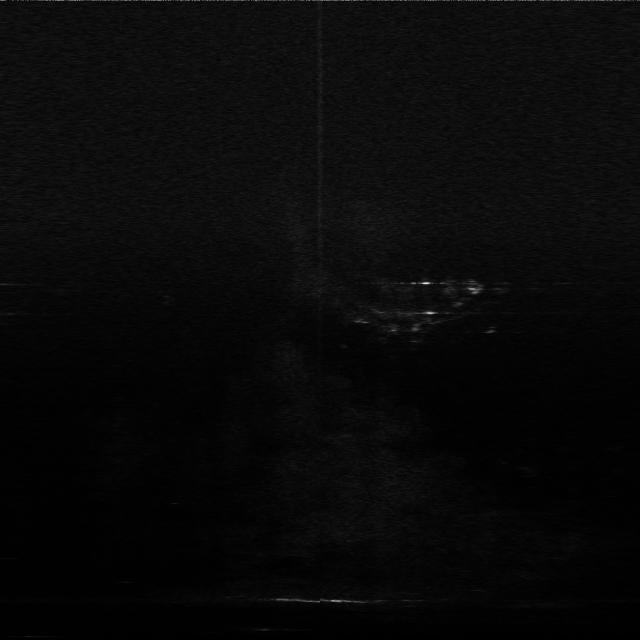rov: (462, 278, 491, 298)
